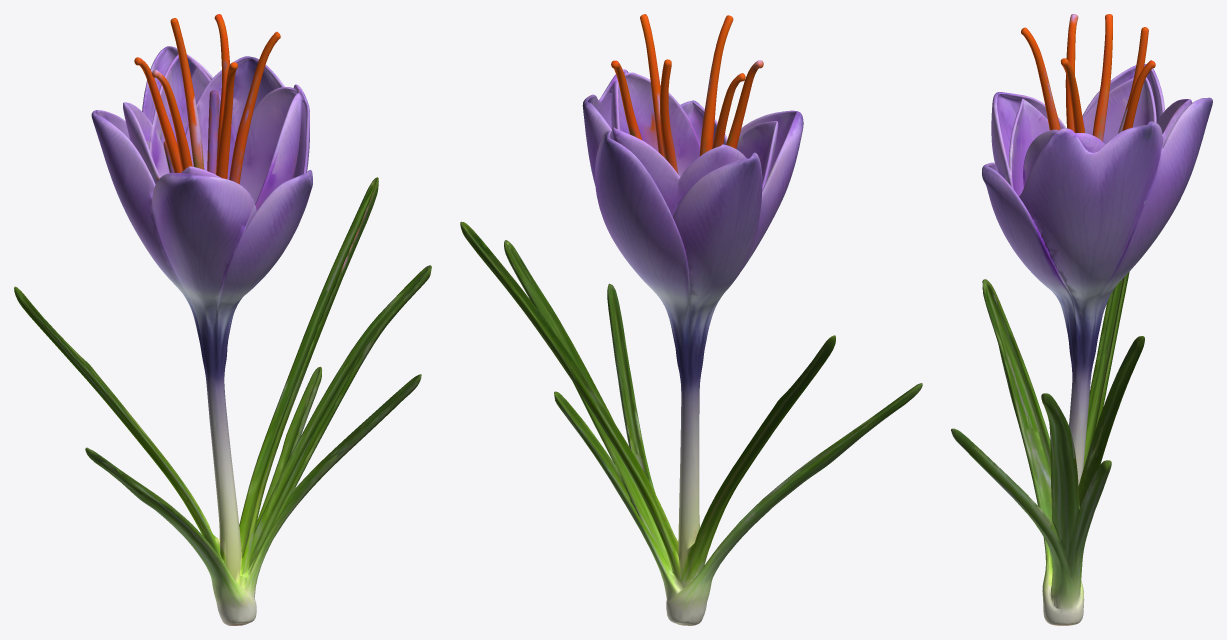
Rendered from zanghonghua.glb.
3 renders of one model, left to right at view 1: azimuth 30°, elevation 25°; view 2: azimuth 150°, elevation 25°; view 3: azimuth 270°, elevation 25°, orthographic. The views are drawn at different scales.
Visible parts, largest first — view 1: node_0; view 2: node_0; view 3: node_0.
Part boxes in pixels (box(x1,y1,x2,y2)): node_0: box(14, 14, 431, 625); node_0: box(460, 14, 922, 625); node_0: box(951, 14, 1212, 625).
Size of the model in its own units: 0.7987 by 1.18 by 0.4781.
Materials: 1 (1 with a texture image).
